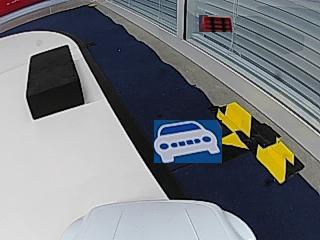block: (26, 45, 85, 119)
